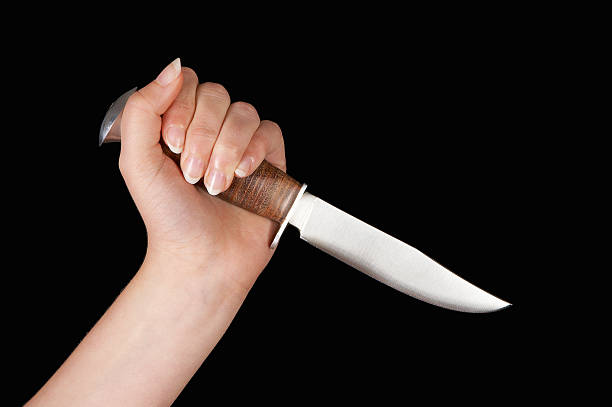knife: (96, 84, 513, 315)
